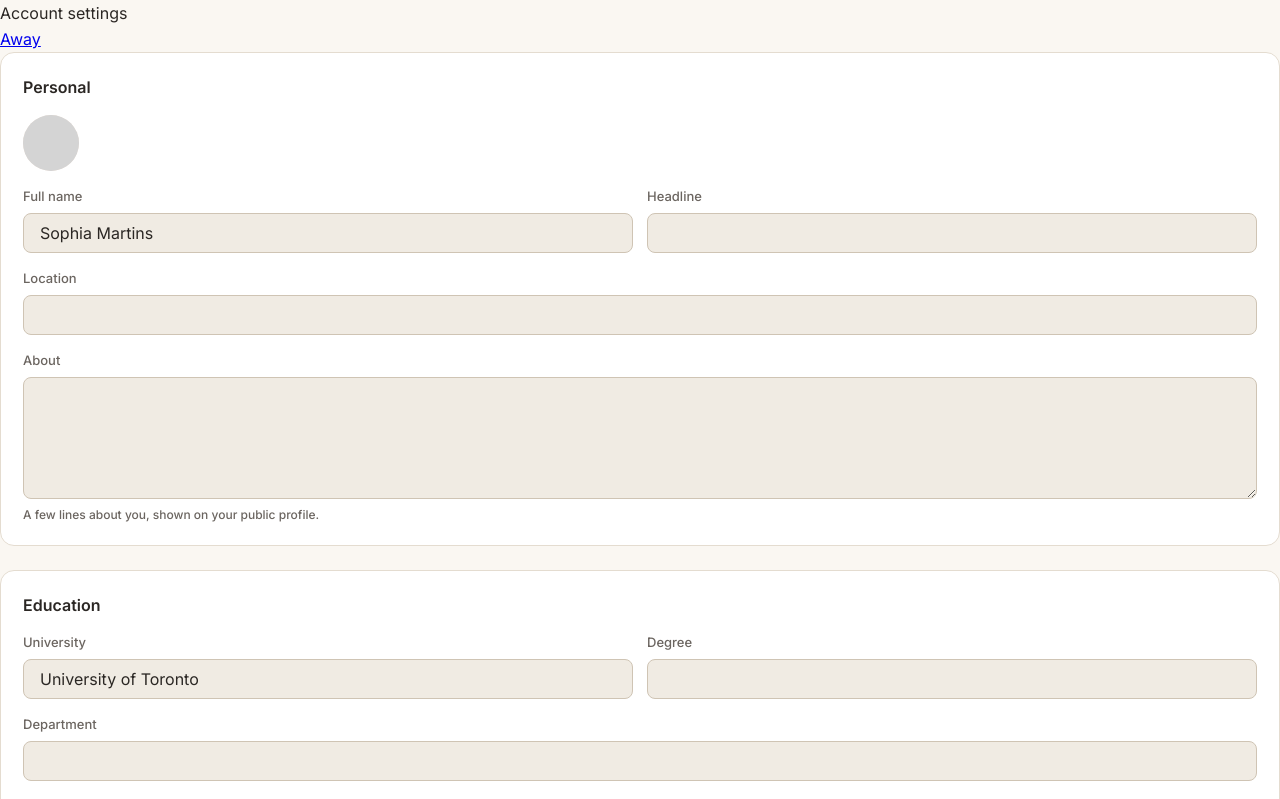
Scenario: ProfileForm saving › sends the profile with the stored photo and no email, then shows the toast
Replace the text in the field labelled "Full name" with "Sophia M": (328, 233) [23, 213, 633, 253]
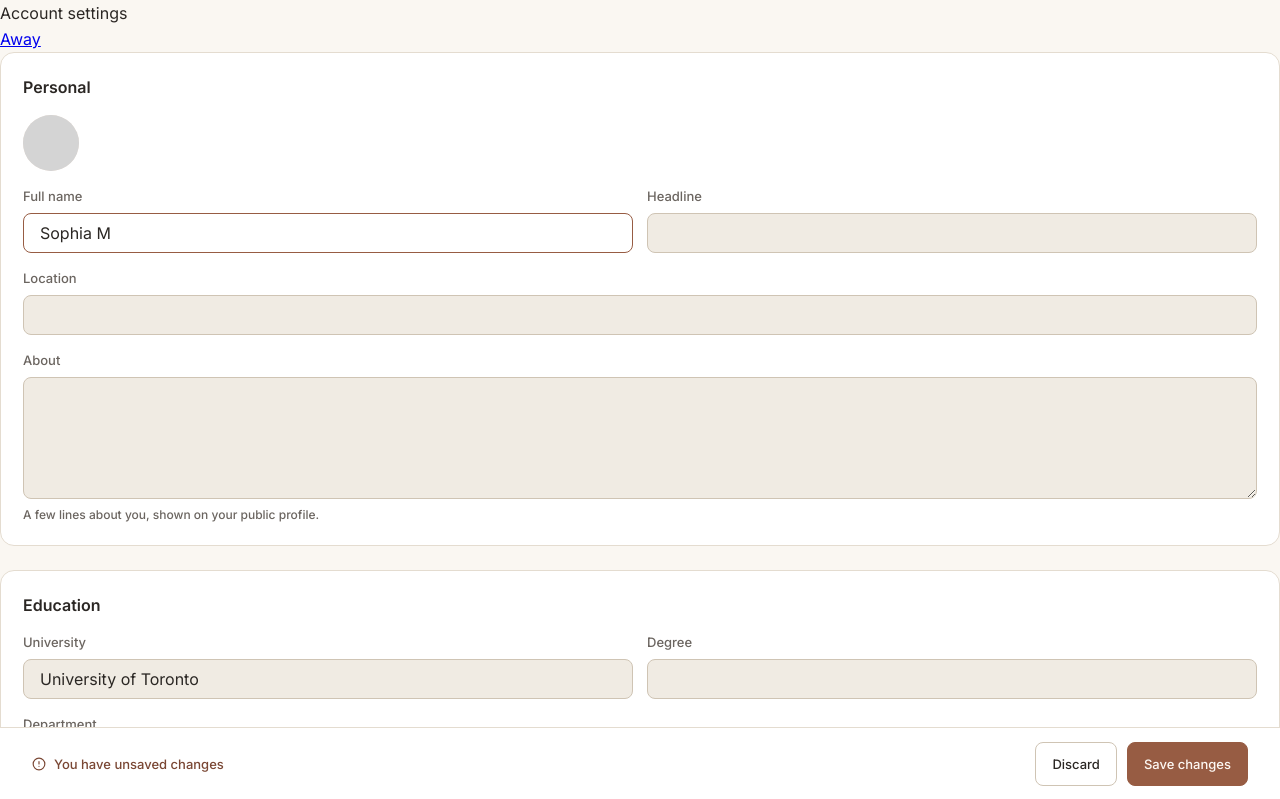
Click the button "Save changes": click(1187, 764) [1127, 742, 1248, 786]
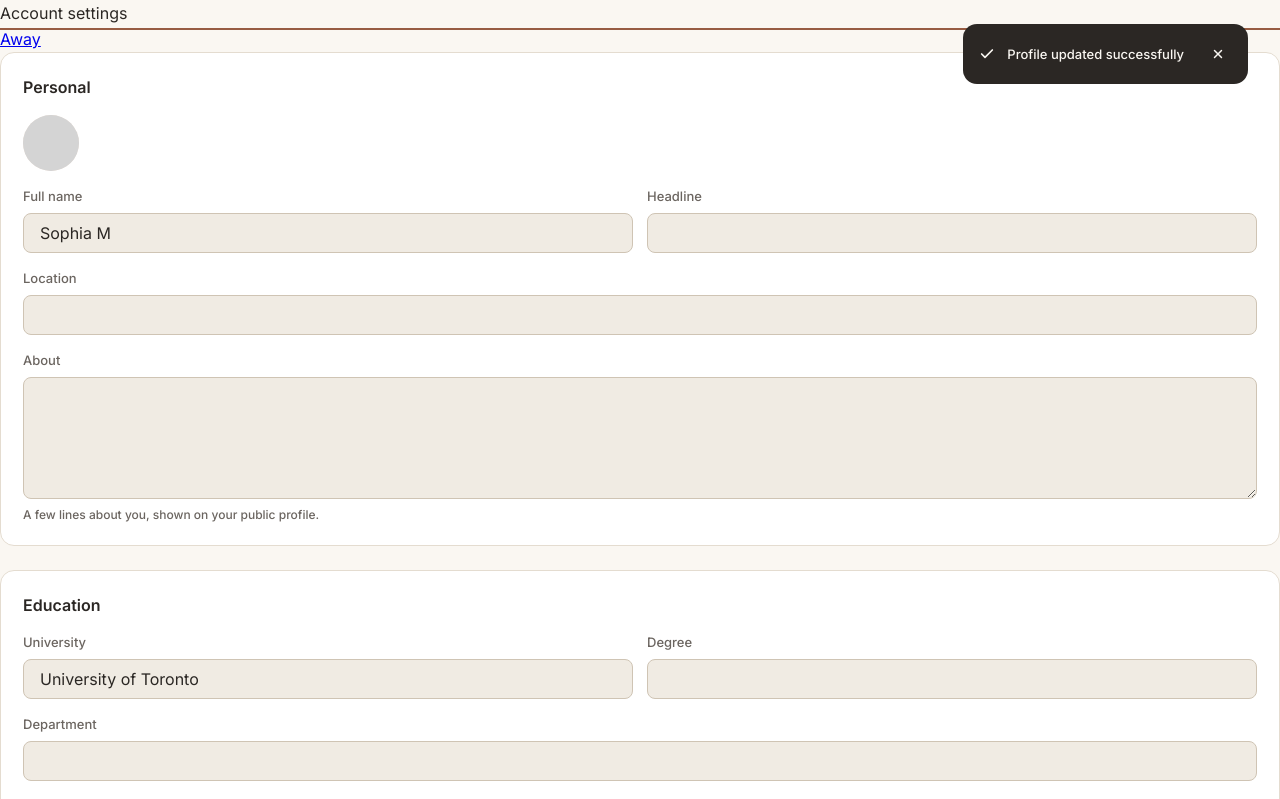
Expected: the element "Unsaved changes" is not shown
Expected: the text "Profile updated successfully" is shown, [1007, 45, 1184, 63]
